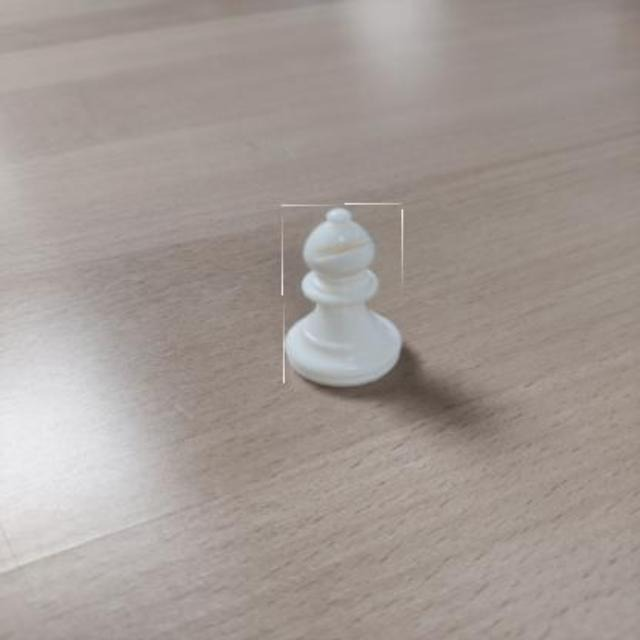white-bishop: (281, 204, 404, 387)
